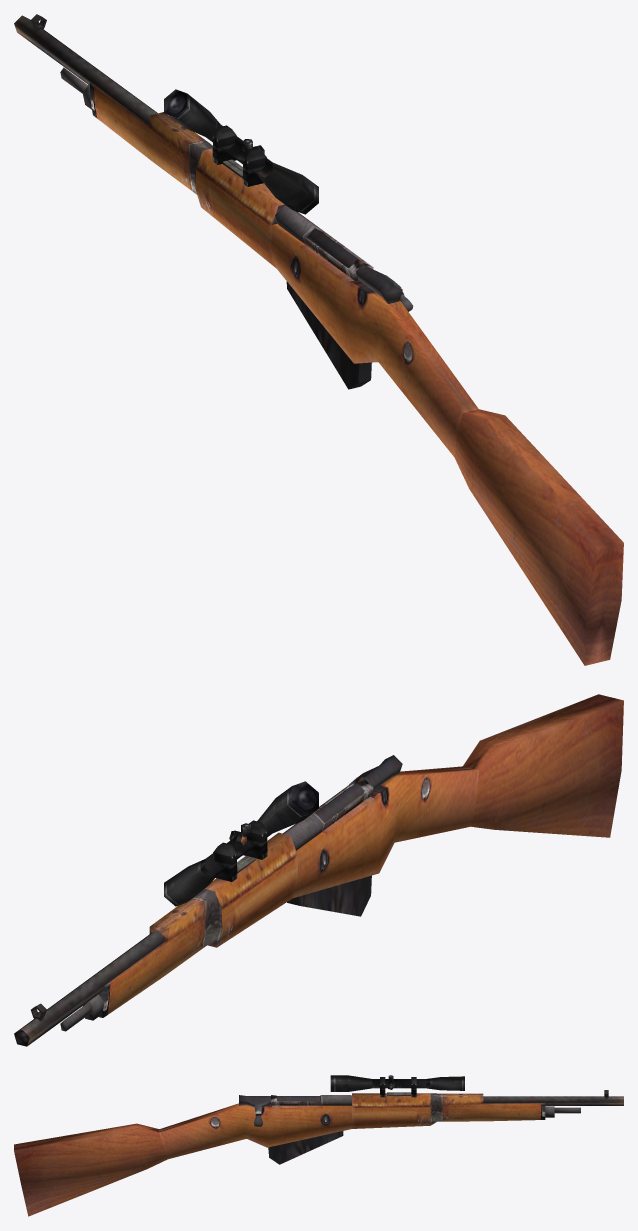
The model's file is Rifle.fbx.
3 renders of one model, top to bottom at view 1: azimuth 30°, elevation 25°; view 2: azimuth 150°, elevation 25°; view 3: azimuth 270°, elevation 25°, orthographic. The views are drawn at different scales.
Visible parts, largest first — view 1: GunBase, Scope, Barrel, Mag, Bolt, Chamber; view 2: GunBase, Scope, Barrel, Mag, Chamber, Bolt, Thing; view 3: GunBase, Scope, Barrel, Mag, Bolt, Chamber, Thing.
Boxes of the visible parts, x1,y1,x2,y2 form: GunBase: (89,83,623,665); Scope: (164,89,318,214); Barrel: (14,14,197,157); Mag: (286,281,371,389); Bolt: (307,229,413,311); Chamber: (275,206,373,281); GunBase: (99,694,623,1017); Scope: (164,781,318,906); Barrel: (14,903,213,1046); Mag: (287,875,371,916); Chamber: (283,777,373,850); Bolt: (315,755,402,821); Thing: (60,994,104,1031); GunBase: (14,1092,545,1216); Scope: (330,1075,464,1097); Barrel: (434,1090,623,1105); Mag: (268,1131,343,1164); Bolt: (239,1095,320,1126); Chamber: (271,1095,351,1105); Thing: (545,1106,580,1117).
Bounding box in the file's own units: 0.2497 × 4.96 × 1.24.
Materials: 1 (1 with a texture image).
